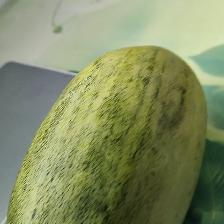gua: (58, 52, 187, 216)
